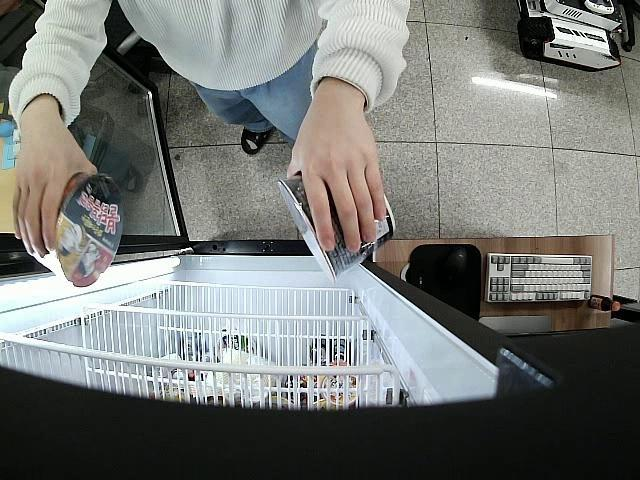07_buldak_L: (278, 176, 398, 284), (28, 170, 122, 287)
